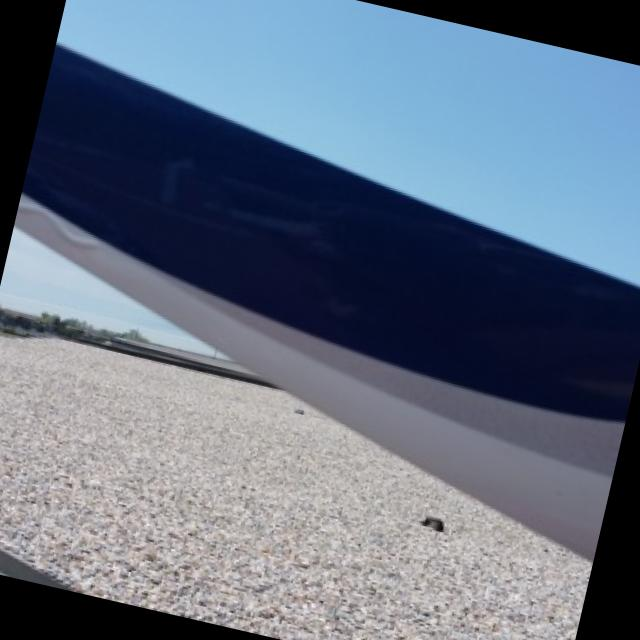healthy: (14, 43, 640, 558)
